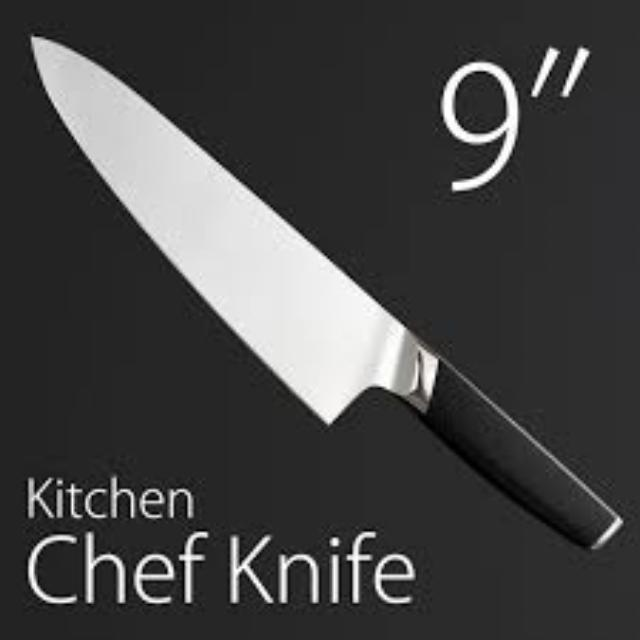Knife: (25, 32, 622, 552)
